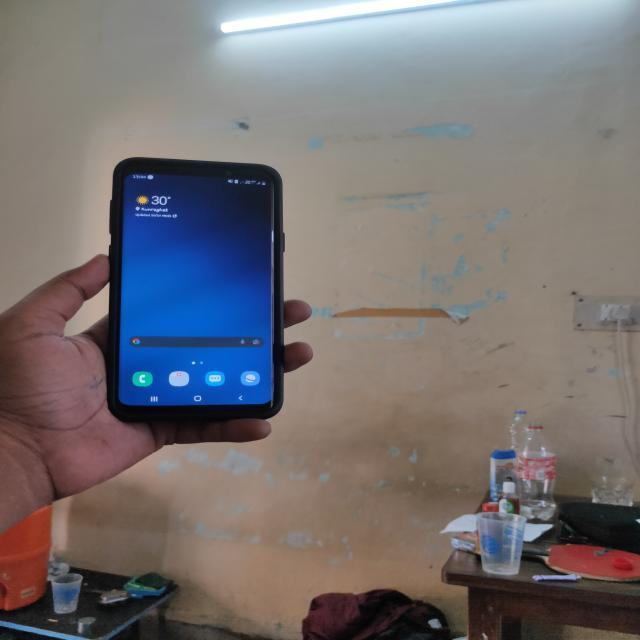Phone: (104, 153, 288, 432)
